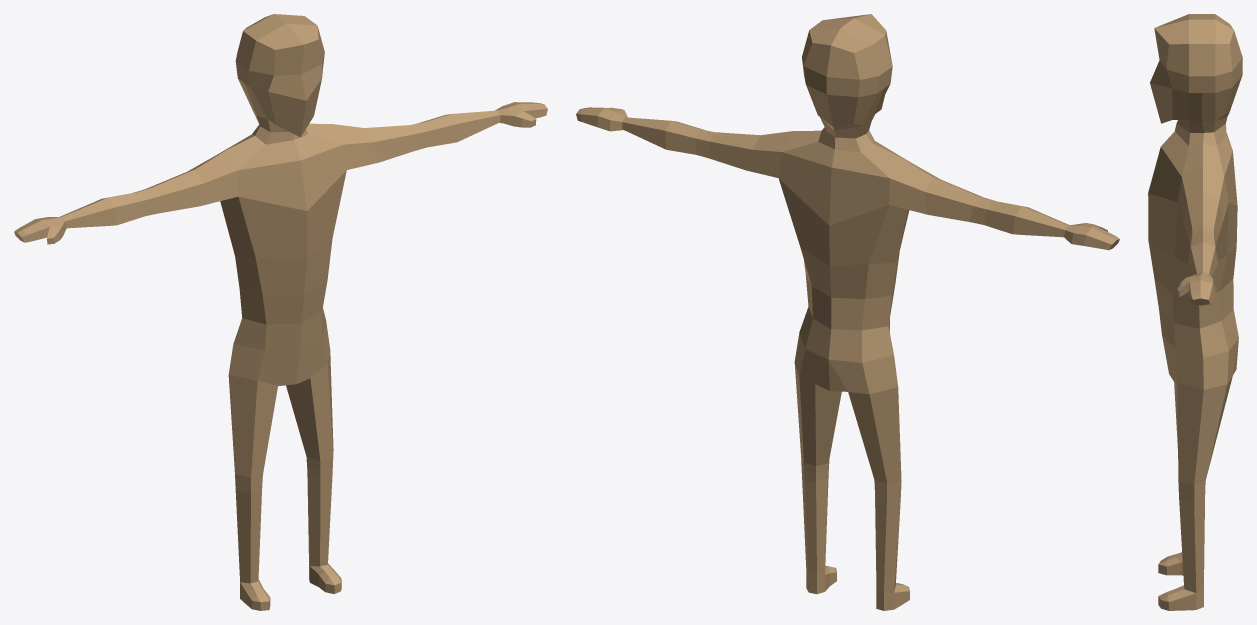
Rendered from BaseMesh_Test.fbx.
3 views of the same model, side by side, from view 1: azimuth 30°, elevation 25°; view 2: azimuth 150°, elevation 25°; view 3: azimuth 270°, elevation 25° (orthographic).
Visible parts, largest first — view 1: Cylinder.001; view 2: Cylinder.001; view 3: Cylinder.001.
Part boxes in pixels (box(x1,y1,x2,y2)): Cylinder.001: box(14, 14, 547, 610); Cylinder.001: box(576, 14, 1119, 610); Cylinder.001: box(1148, 14, 1242, 610).
Size of the model in its own units: 1.54 by 1.59 by 0.2391.
